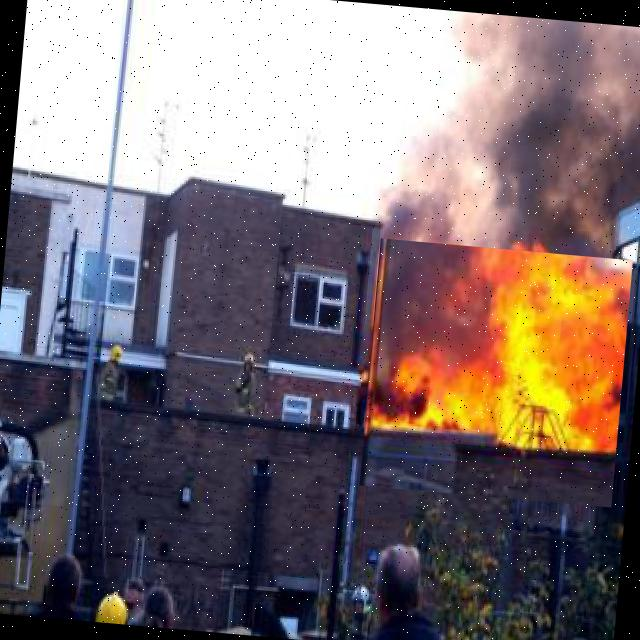fire: (358, 238, 632, 507)
